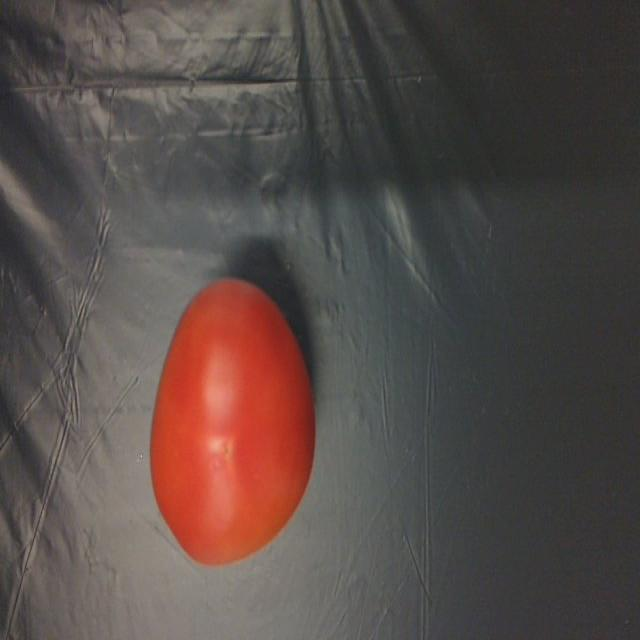kirmizi: (150, 255, 316, 577)
